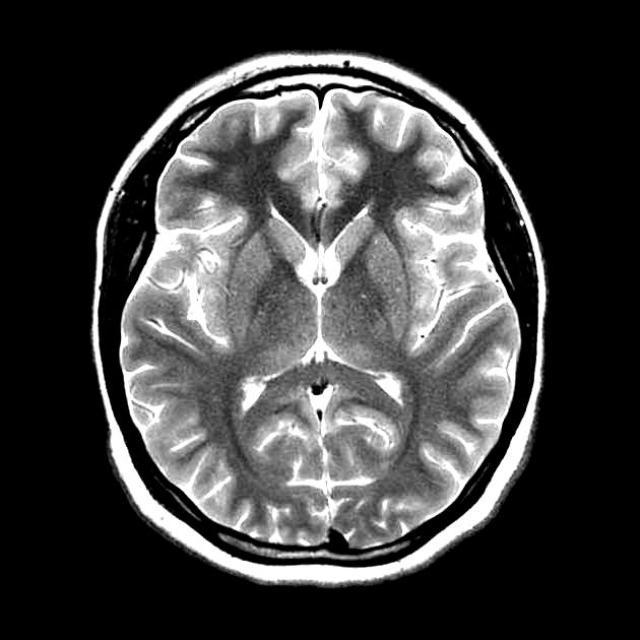notumor: (93, 53, 546, 585)
